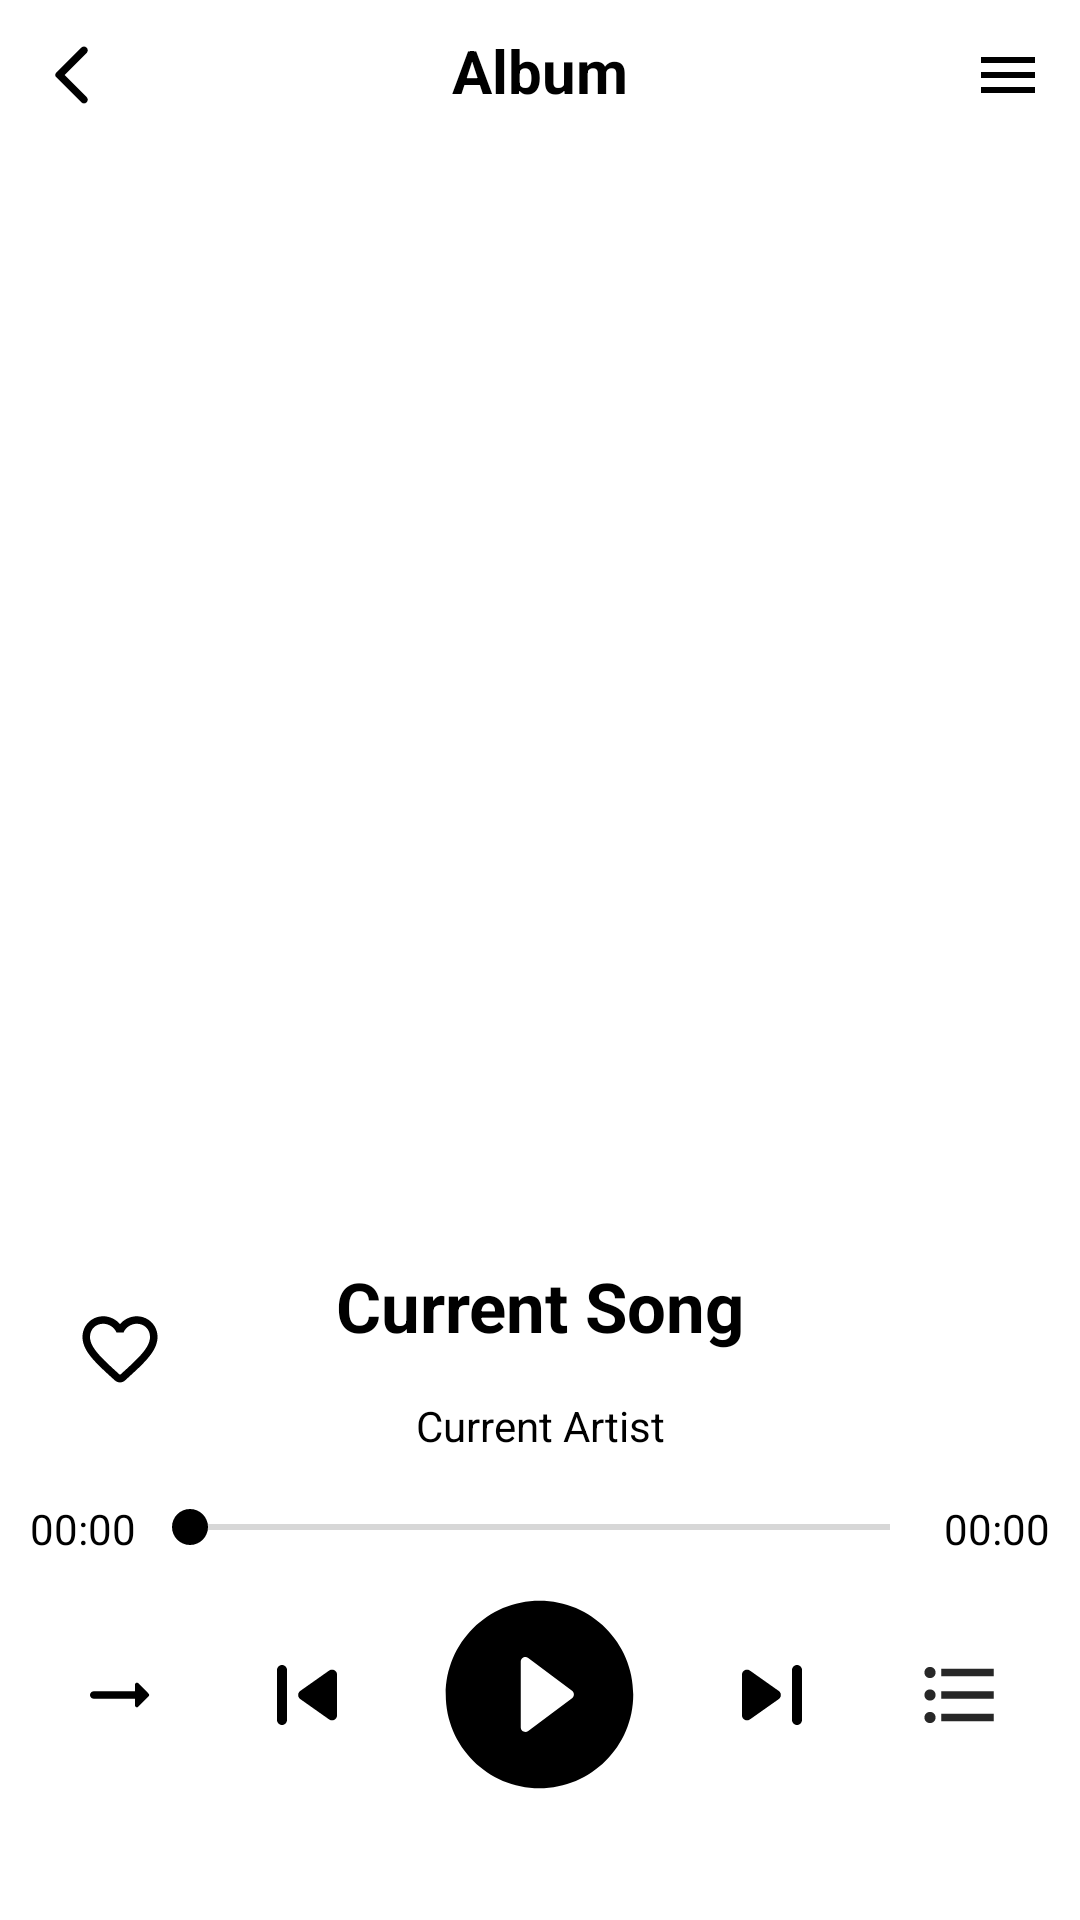

Icon bounding boxes for this 1080x1920 phone screenshot, format bbox=[x1, y1, x2, y2]:
arrow back: bbox=[55, 46, 88, 104]
favorite border: bbox=[82, 1316, 158, 1383]
menu: bbox=[981, 57, 1035, 93]
play circle: bbox=[445, 1600, 634, 1789]
playlists: bbox=[924, 1667, 994, 1723]
skip next: bbox=[742, 1665, 802, 1725]
skip previous: bbox=[277, 1665, 337, 1725]
